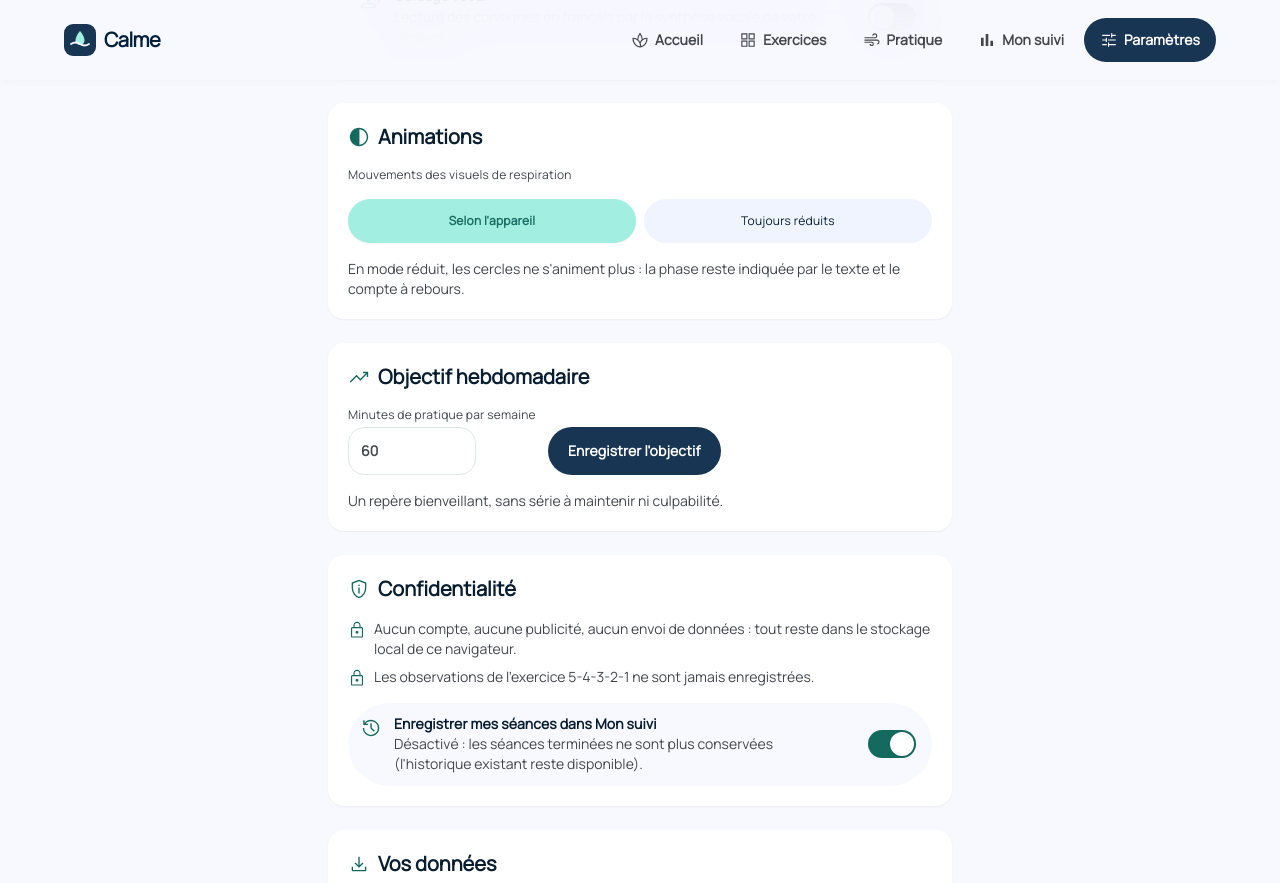
Scenario: Paramètres › validates and saves the weekly goal
(page scrolled)
Replace the text in the number field labelled "Minutes de pratique par semaine" with "2". click: x=412, y=450
box: [348,426,476,474]
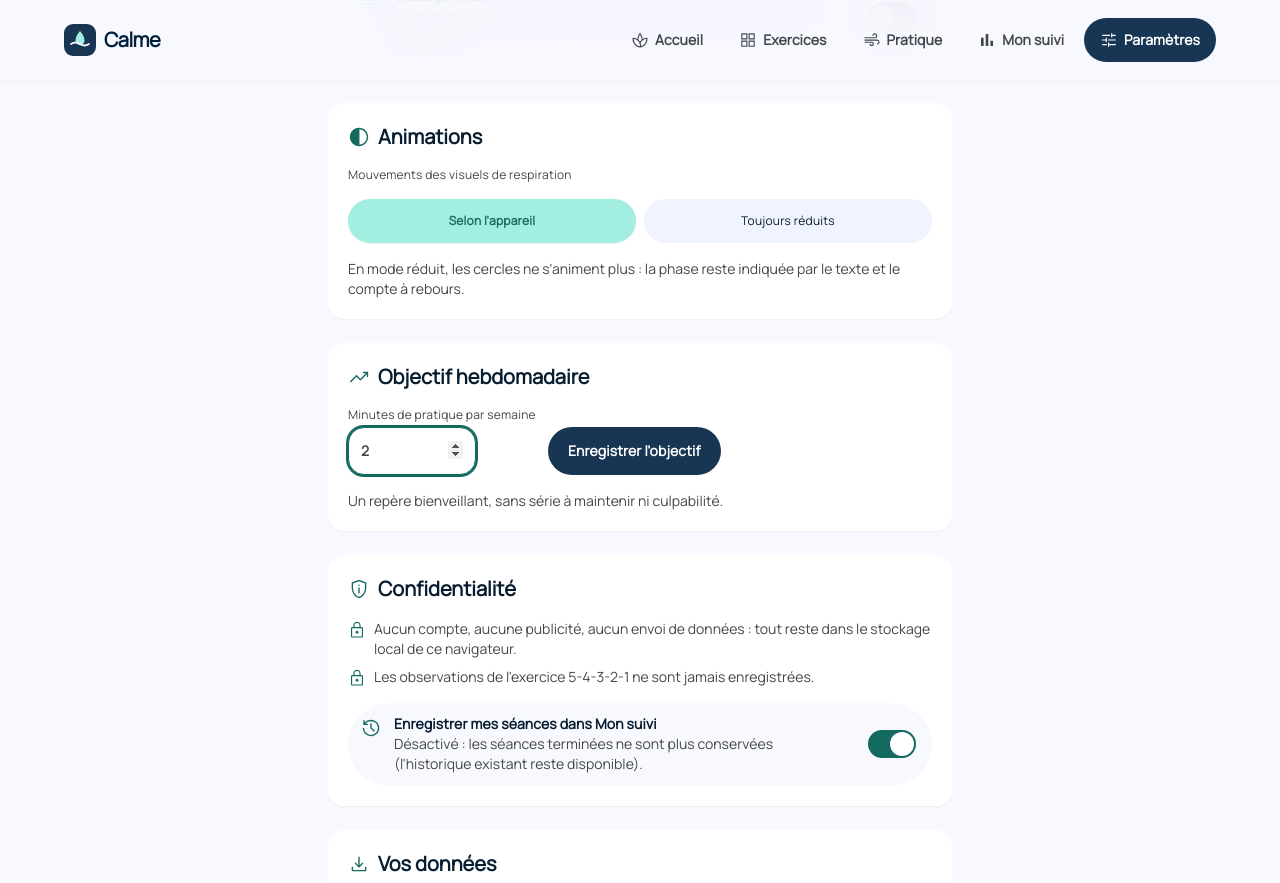
Click the button "Enregistrer l'objectif". click: x=634, y=450
box: [548,426,720,474]
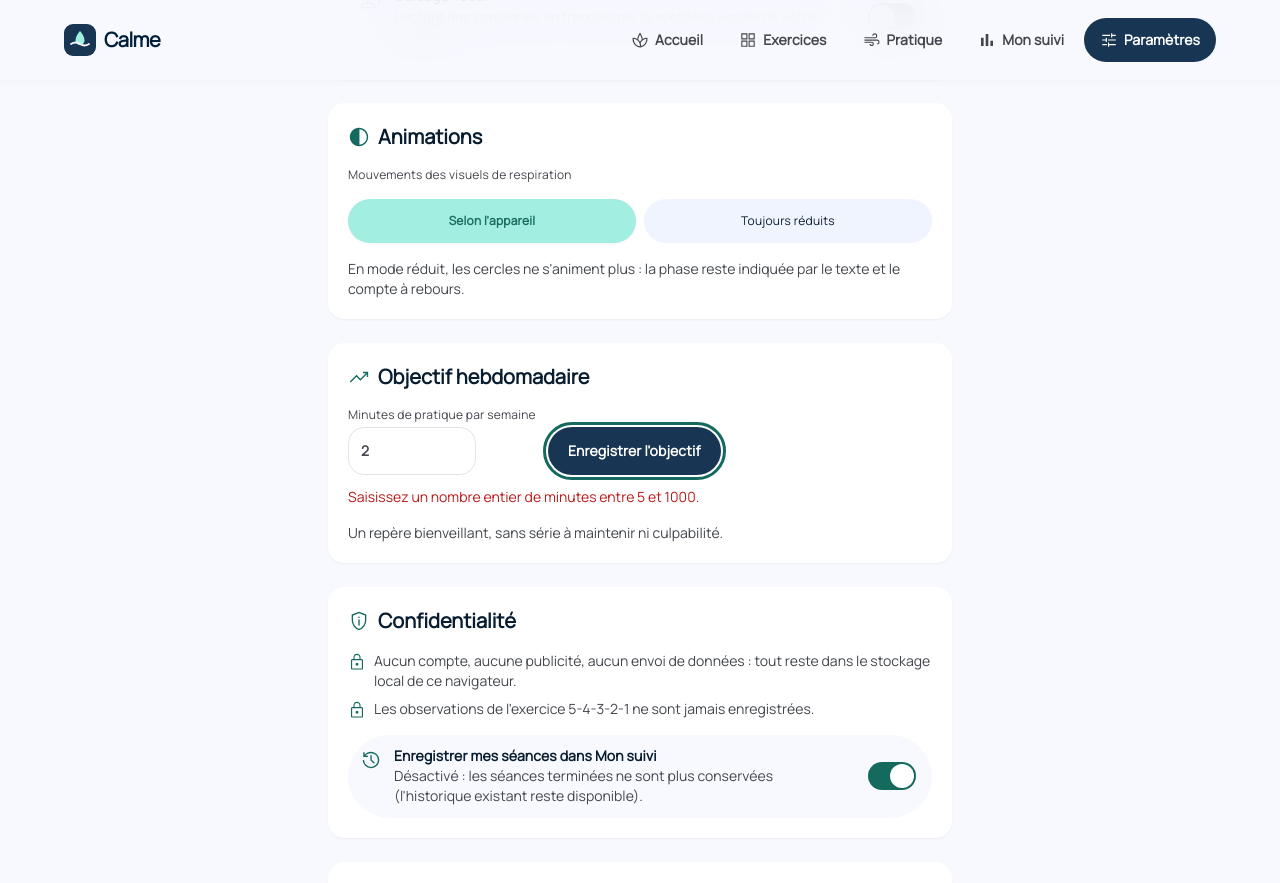
expect the message shows "entre 5 et 1000": met, box [348,486,699,506]
Replace the text in the number field labelled "Minutes de pratique par semaine" with "90". click: x=412, y=450
box: [348,426,476,474]
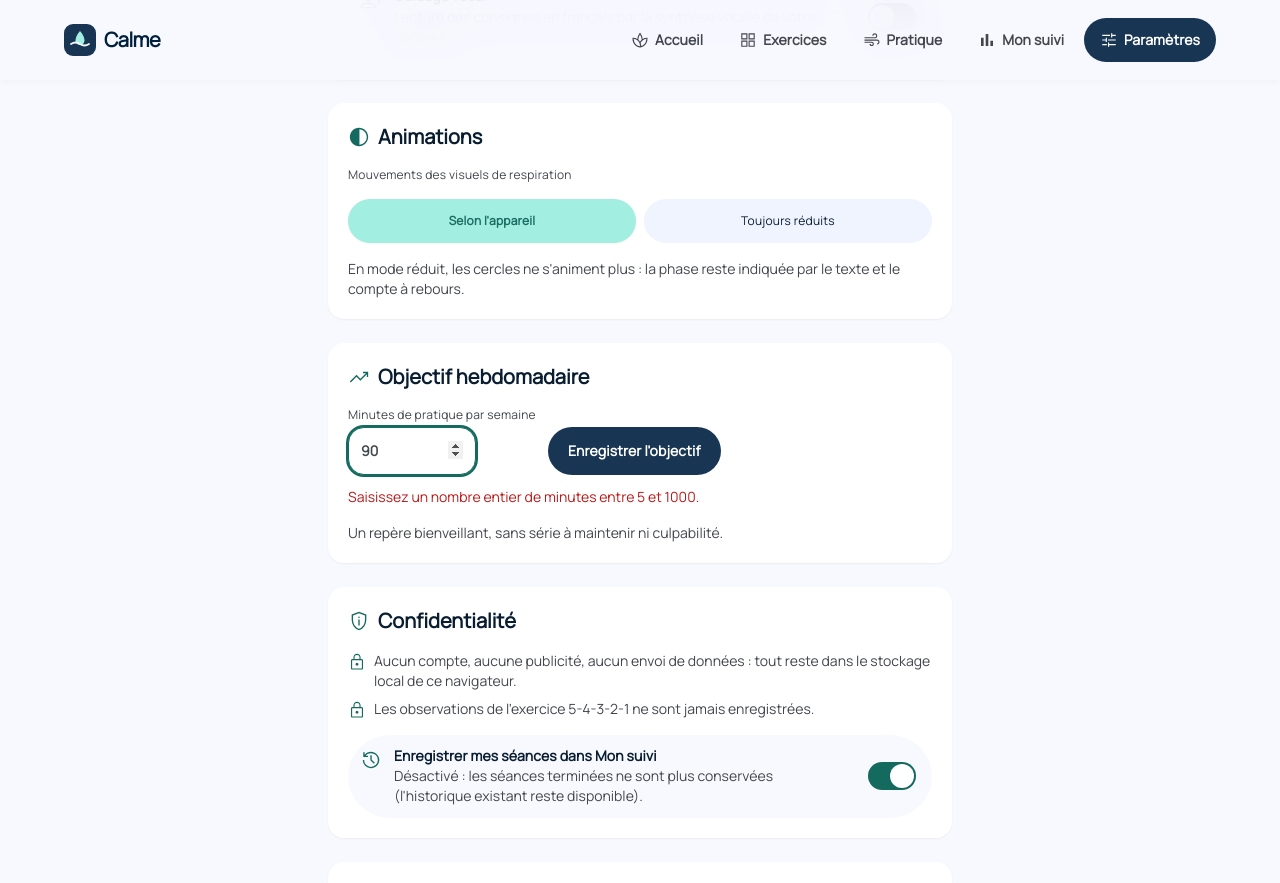
Click the button "Enregistrer l'objectif". click: x=634, y=450
box: [548,426,720,474]
(page scrolled)
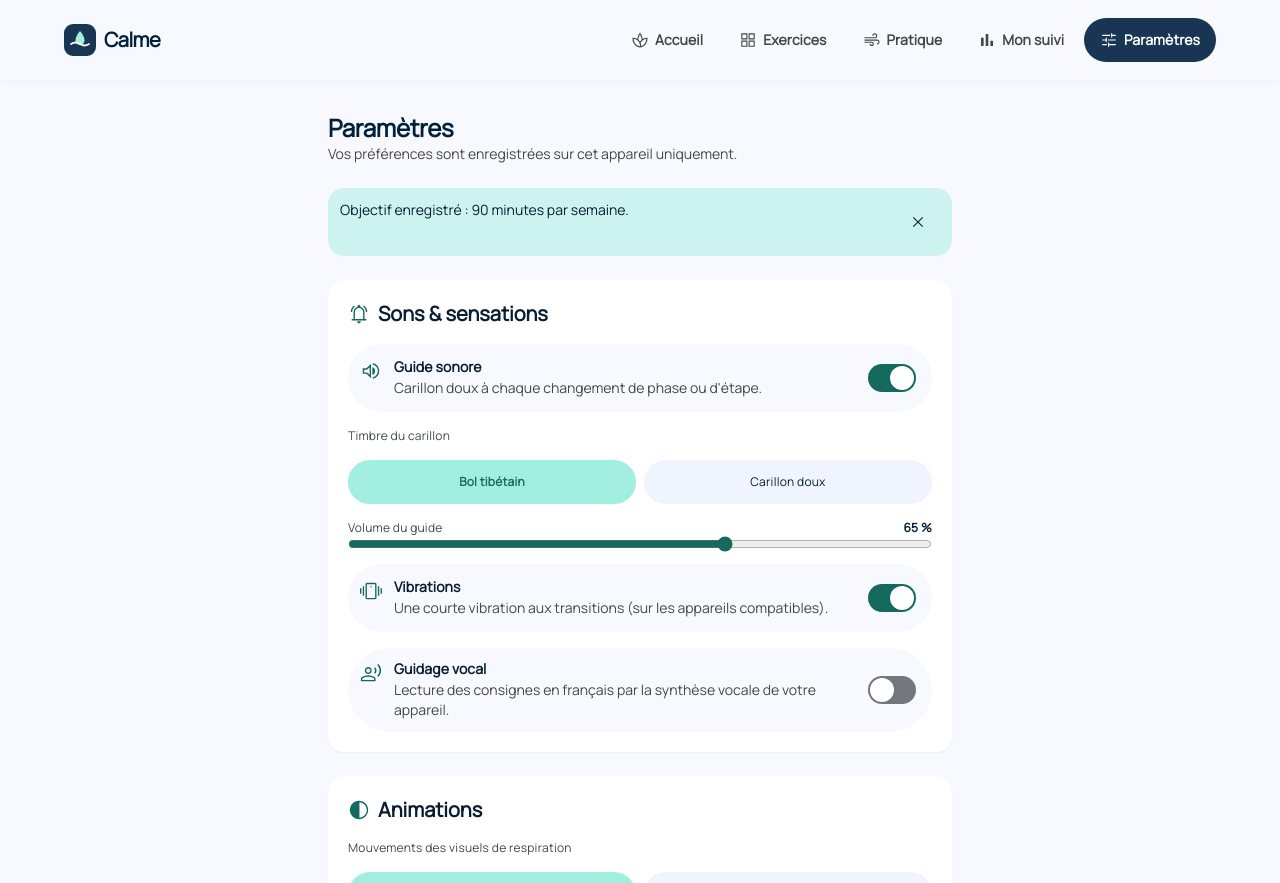
expect the text "Objectif enregistré : 90 minutes par semaine." is shown: met, box [340,200,629,220]
